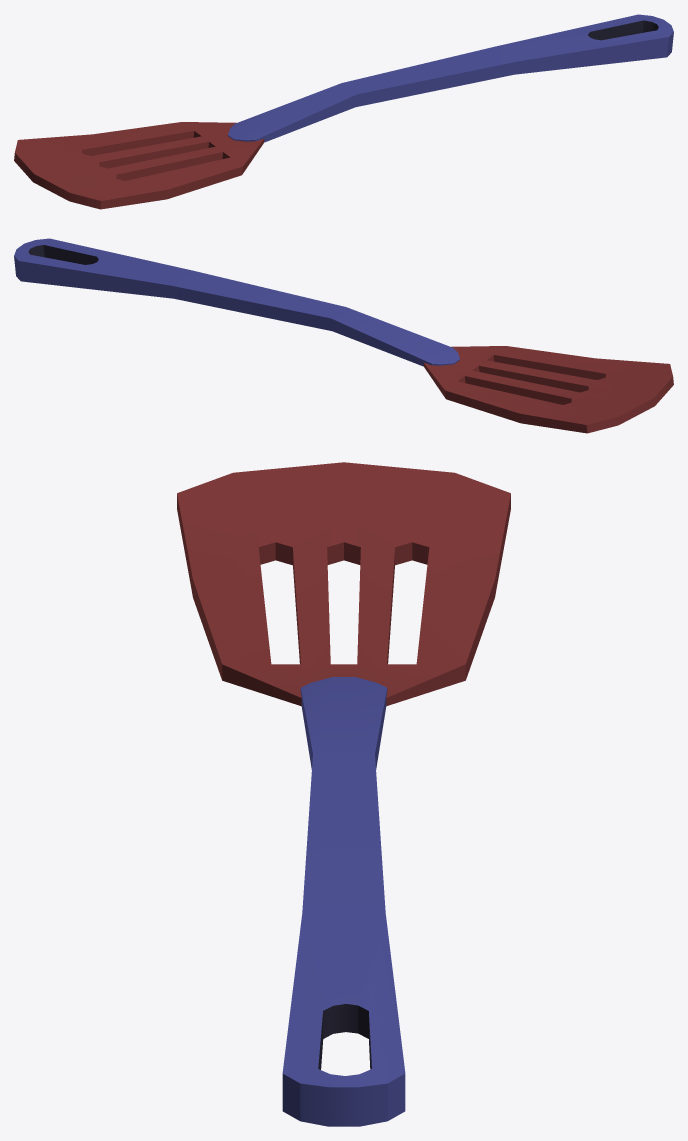
Rendered from Spatula_01.fbx.
3 renders of one model, top to bottom at view 1: azimuth 30°, elevation 25°; view 2: azimuth 150°, elevation 25°; view 3: azimuth 270°, elevation 25°, orthographic. The views are drawn at different scales.
Visible parts, largest first — view 1: pCube54; view 2: pCube54; view 3: pCube54.
Boxes of the visible parts, bbox=[...] form: pCube54: bbox=[14, 14, 673, 209]; pCube54: bbox=[14, 238, 673, 433]; pCube54: bbox=[177, 462, 510, 1126].
Bounding box in the file's own units: 799 × 38.67 × 182.
